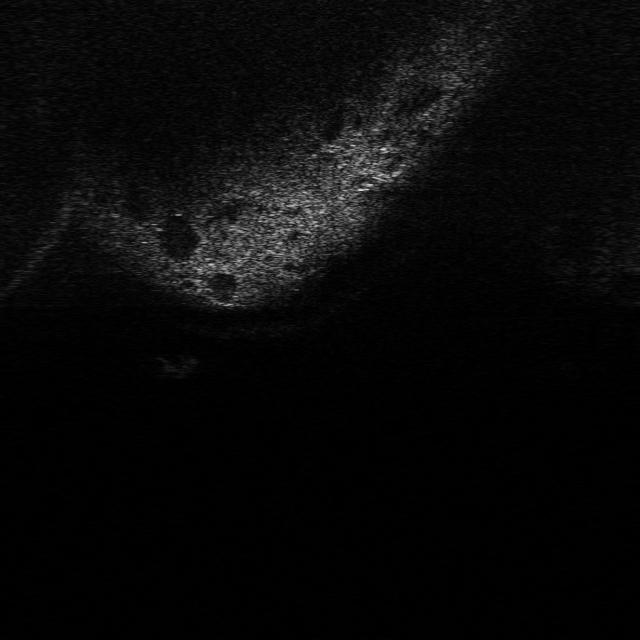cube: (154, 348, 203, 381)
